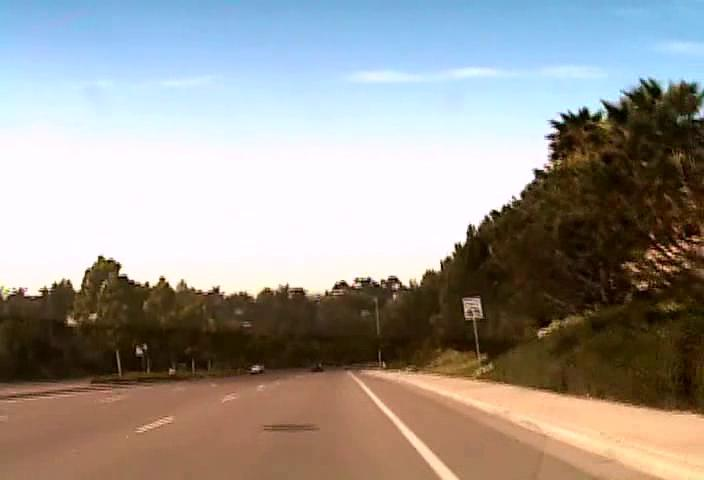speedLimit45: (461, 296, 484, 319)
